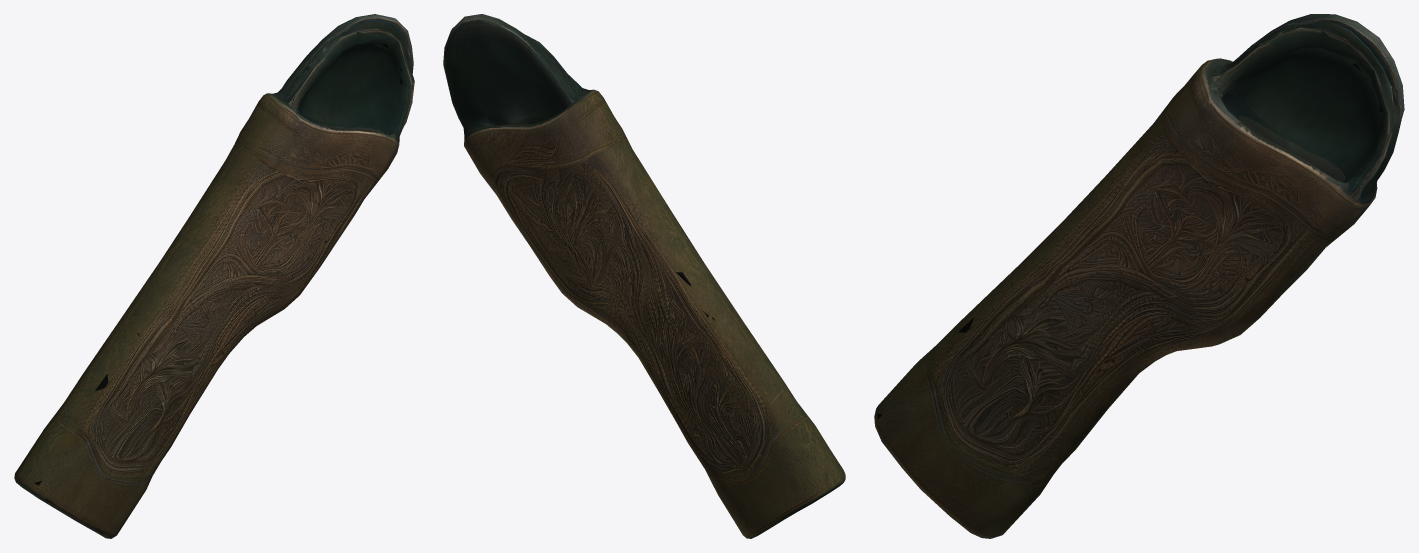
Rendered from Quiver.fbx.
3 views of the same model, side by side, from view 1: azimuth 30°, elevation 25°; view 2: azimuth 150°, elevation 25°; view 3: azimuth 330°, elevation 25° (orthographic). The views are drawn at different scales.
Parts seen in each view (by area): view 1: Quiver; view 2: Quiver; view 3: Quiver.
Boxes of the visible parts, x1,y1,x2,y2 form: Quiver: (14, 14, 414, 538); Quiver: (443, 14, 845, 538); Quiver: (874, 14, 1404, 538).
Bounding box in the file's own units: 53.31 × 58.57 × 7.91.
1 material, 1 textured.
